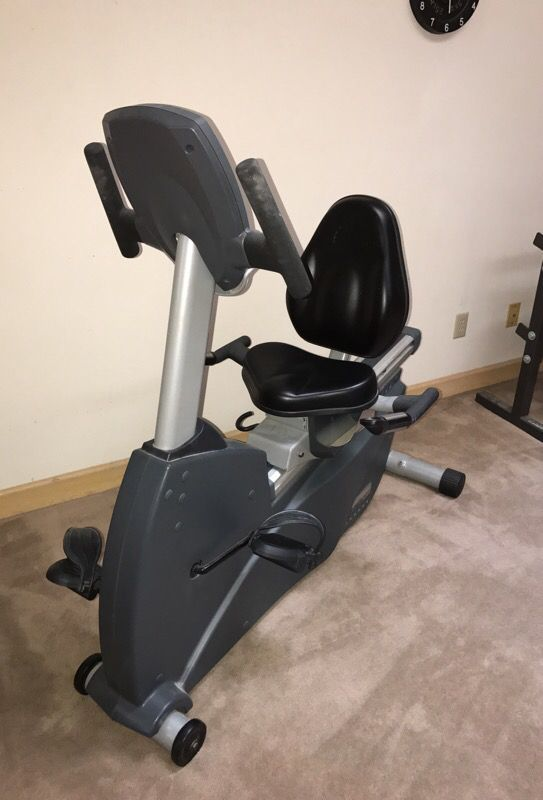gym_bike: (29, 95, 476, 749)
